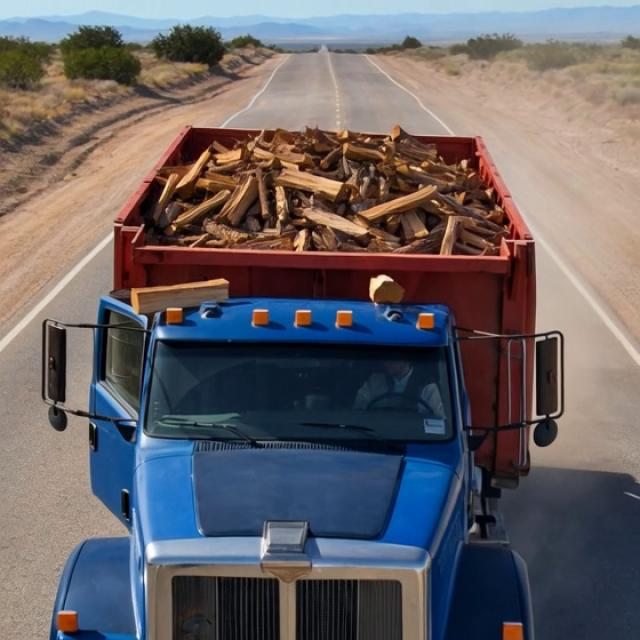Box: (105, 122, 540, 268)
Truck: (39, 92, 621, 638)
